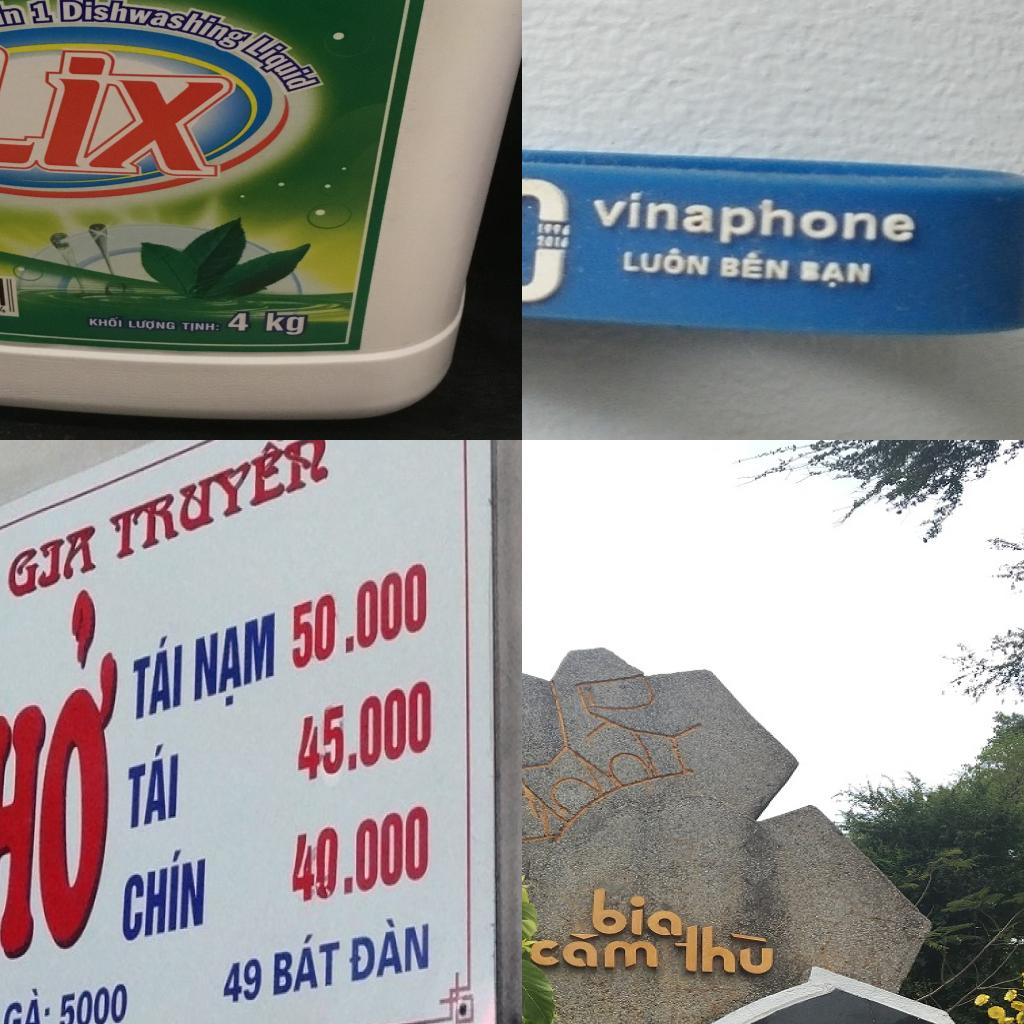text: (0, 574, 121, 984), (105, 440, 331, 566), (128, 0, 314, 131), (587, 190, 921, 254), (290, 554, 430, 678), (296, 675, 434, 790), (290, 801, 432, 909), (193, 608, 278, 721), (120, 841, 208, 949), (2, 520, 99, 605), (522, 172, 575, 308), (348, 910, 433, 988), (668, 925, 780, 978), (126, 736, 182, 835), (530, 929, 662, 971), (270, 926, 342, 1000), (132, 628, 186, 724), (584, 886, 684, 936), (0, 71, 36, 193), (58, 978, 130, 1024), (64, 0, 150, 34), (623, 245, 713, 277), (720, 248, 792, 285), (797, 259, 875, 292), (222, 954, 264, 1008), (0, 0, 35, 62), (2, 983, 53, 1024), (336, 81, 365, 140), (95, 168, 134, 204), (465, 126, 487, 176), (78, 53, 115, 82), (92, 205, 126, 236), (84, 79, 124, 105), (360, 100, 379, 152), (478, 68, 497, 120), (331, 143, 358, 177), (74, 33, 111, 55), (25, 217, 54, 242), (31, 186, 56, 215), (54, 228, 94, 246), (64, 168, 96, 186), (535, 224, 572, 236), (370, 85, 384, 101), (496, 0, 515, 11), (358, 153, 372, 163), (462, 179, 474, 187)
